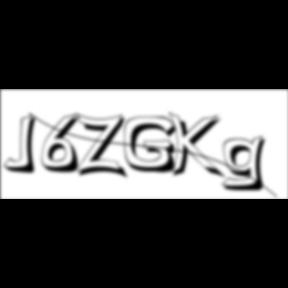6: (42, 112, 86, 176)
G: (124, 116, 182, 176)
J: (3, 114, 42, 176)
K: (168, 110, 228, 182)
Z: (76, 112, 132, 181)
g: (222, 134, 274, 194)
